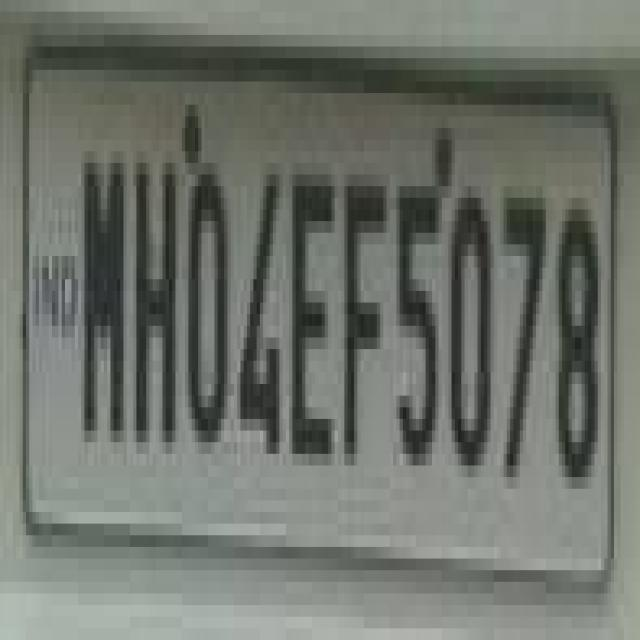license_plate: (10, 11, 598, 582)
